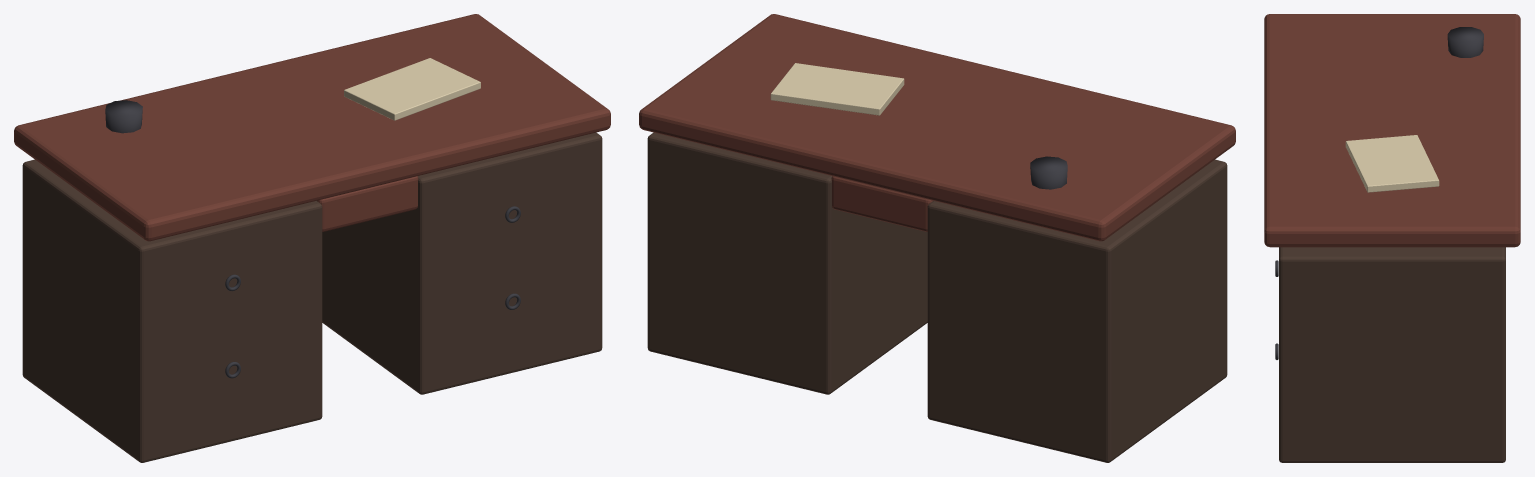
Rendered from desk.glb.
3 views of the same model, side by side, from view 1: azimuth 30°, elevation 25°; view 2: azimuth 150°, elevation 25°; view 3: azimuth 270°, elevation 25° (orthographic). The views are drawn at different scales.
Visible parts, largest first — view 1: GD_desk; view 2: GD_desk; view 3: GD_desk.
Boxes of the visible parts, left/top/right/bottom form: GD_desk: left=14, top=14, right=610, bottom=462; GD_desk: left=639, top=14, right=1235, bottom=462; GD_desk: left=1264, top=14, right=1520, bottom=462.
Bounding box in the file's own units: 1.4 × 0.76 × 0.7.
